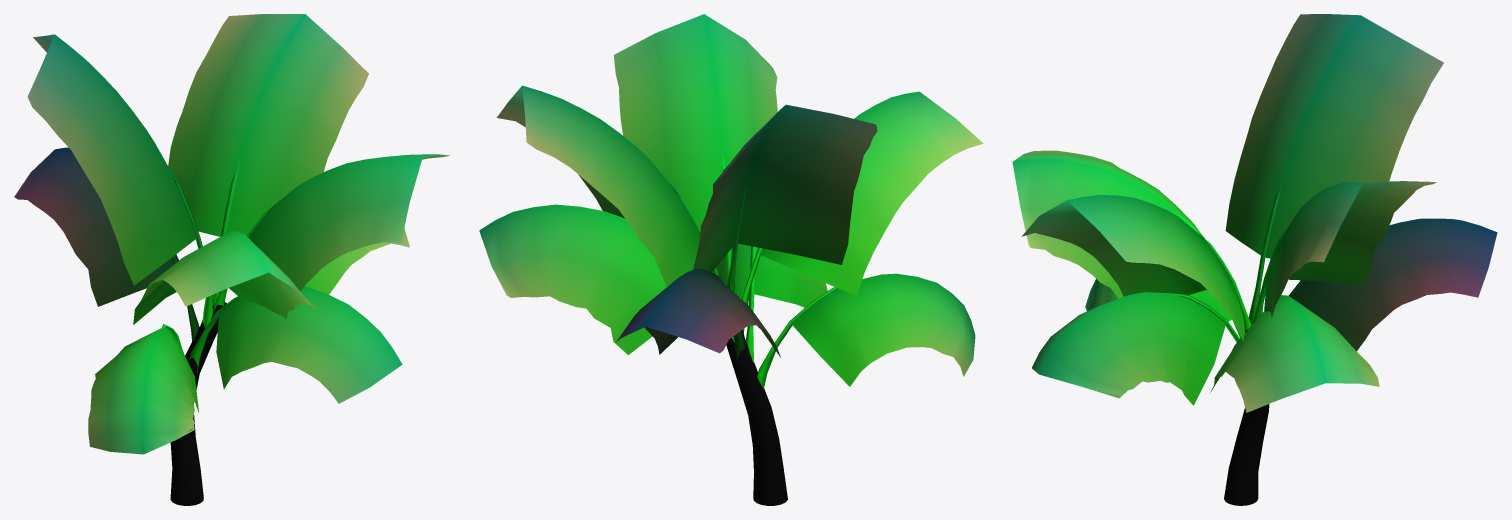
Rendered from BananaPlant01.fbx.
3 views of the same model, side by side, from view 1: azimuth 30°, elevation 25°; view 2: azimuth 150°, elevation 25°; view 3: azimuth 270°, elevation 25° (orthographic). The views are drawn at different scales.
Visible parts, largest first — view 1: tree.001, tree; view 2: tree.001, tree; view 3: tree.001, tree.
Part boxes in pixels (left/top/right/bottom): tree.001: left=14, top=14, right=449, bottom=454; tree: left=160, top=158, right=277, bottom=505; tree.001: left=479, top=14, right=983, bottom=386; tree: left=667, top=154, right=838, bottom=505; tree.001: left=1012, top=14, right=1497, bottom=412; tree: left=1169, top=177, right=1305, bottom=505.
Bounding box in the file's own units: 23497 × 25991 × 25562.
